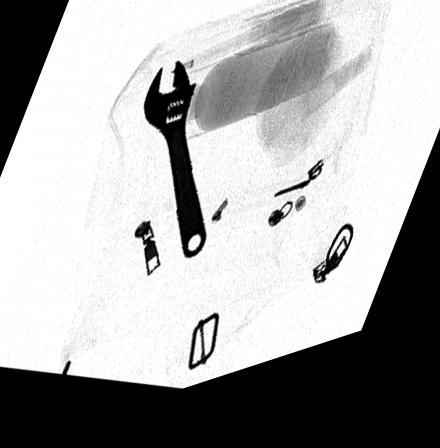Wrench: (143, 72, 206, 271)
